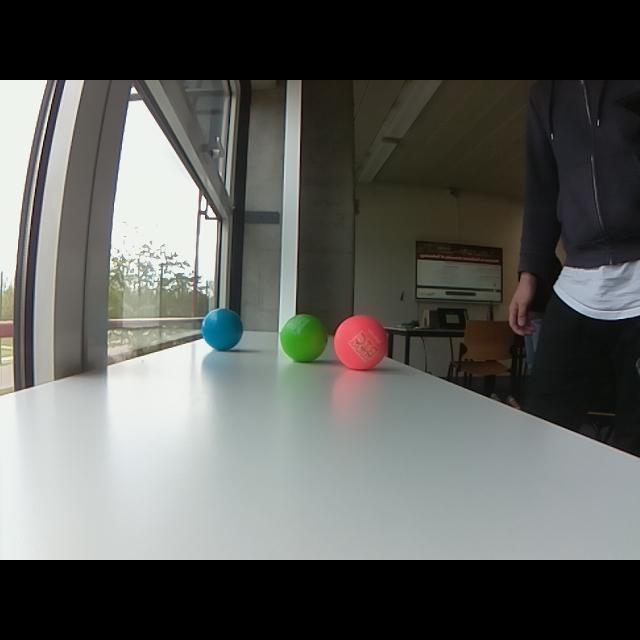ball: (330, 312, 390, 373), (278, 312, 328, 363), (198, 305, 245, 352)
